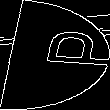P_W: (5, 34, 105, 76)
